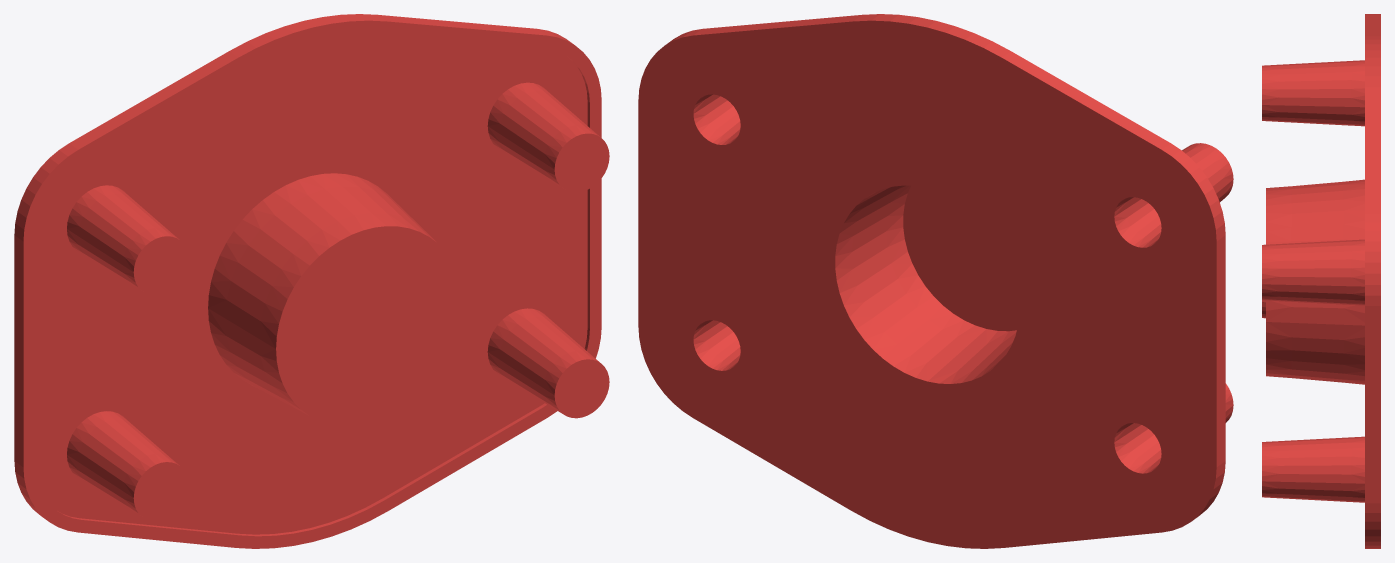
3 views of the same model, side by side, from view 1: azimuth 30°, elevation 25°; view 2: azimuth 150°, elevation 25°; view 3: azimuth 270°, elevation 25° (orthographic). The views are drawn at different scales.
Parts seen in each view (by area): view 1: 10239889; view 2: 10239889; view 3: 10239889.
Part boxes in pixels (x1,y1,x2,y2): 10239889: (14, 14, 609, 548); 10239889: (638, 14, 1233, 548); 10239889: (1262, 14, 1380, 548).
Bounding box in the file's own units: 1 × 0.8503 × 0.2041.
